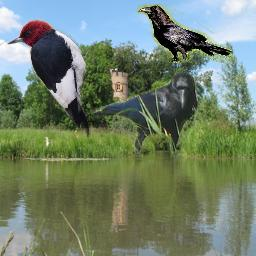Crow: (90, 72, 198, 157), (137, 4, 233, 63)
Woodpecker: (2, 18, 97, 137)
